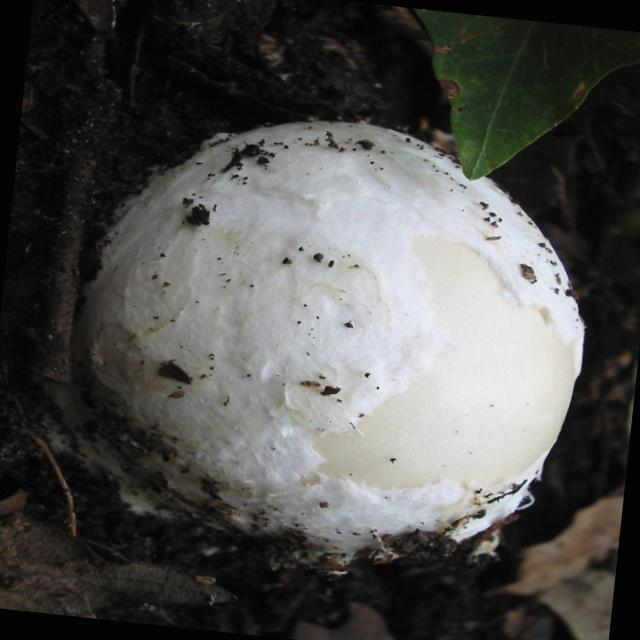Agaricus bisporus: (49, 98, 598, 598)
